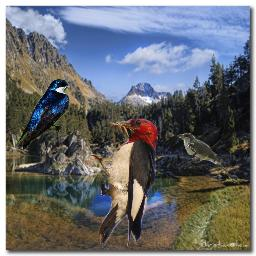Cuckoo: (177, 133, 235, 183)
Swallow: (15, 79, 71, 150)
Woodpecker: (90, 118, 158, 248)
